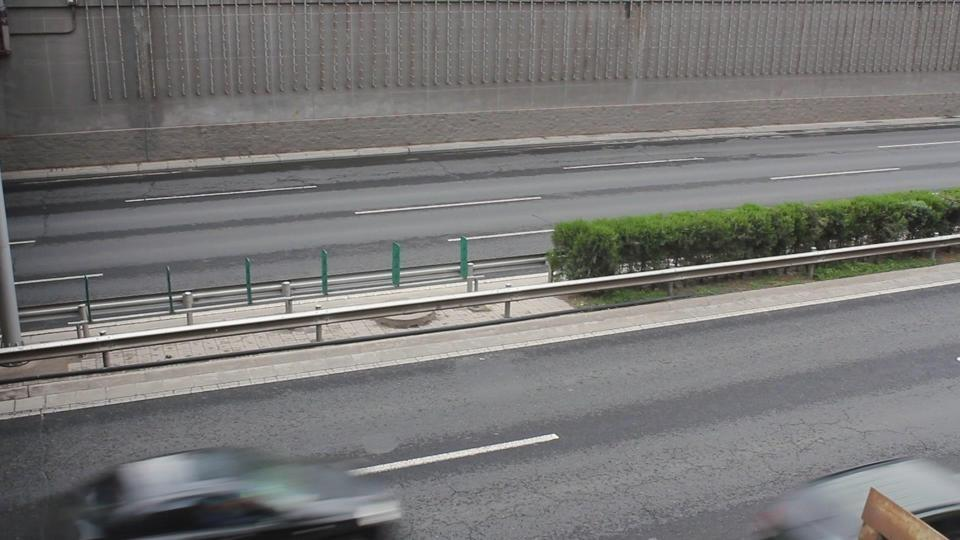car: (34, 448, 406, 539), (750, 451, 960, 537)
